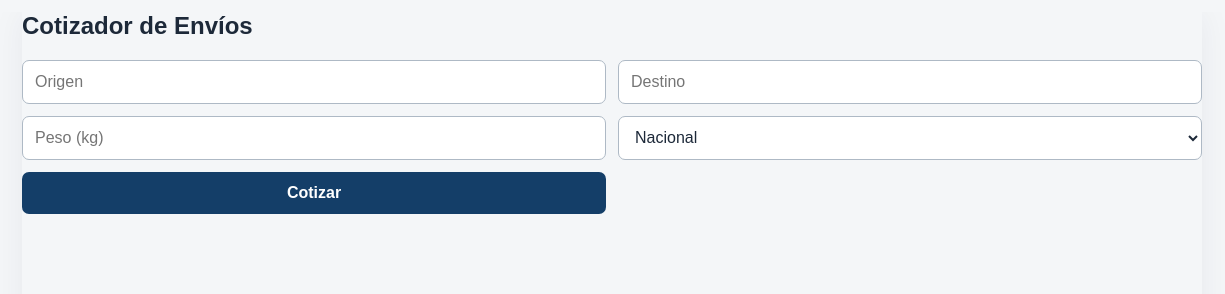
Test: QuoteForm › muestra una cotización según el servicio seleccionado
Type "Puebla" into the field named "Origen del envío". click: {"x": 314, "y": 82}
box: [22,60,606,104]
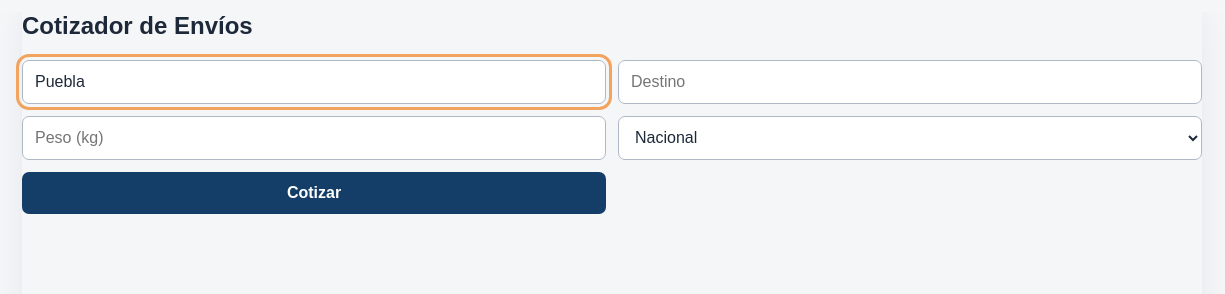
Type "CDMX" into the field named "Destino del envío". click: {"x": 910, "y": 82}
box: [618,60,1202,104]
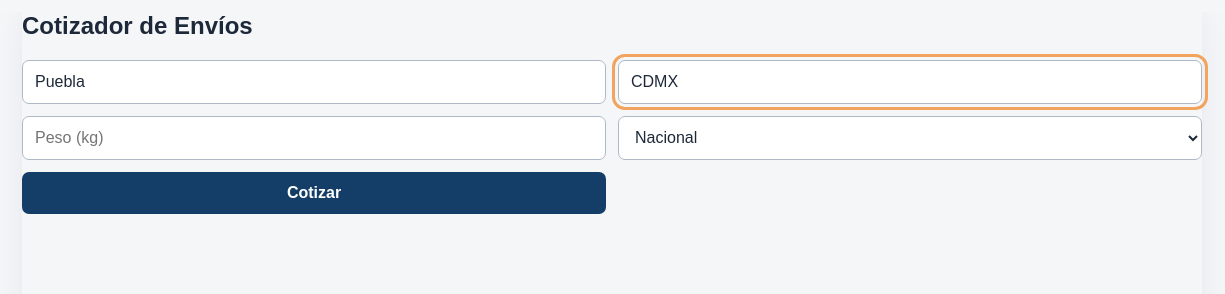
Type "2" into the number field named "Peso del paquete". click: {"x": 314, "y": 138}
box: [22,116,606,160]
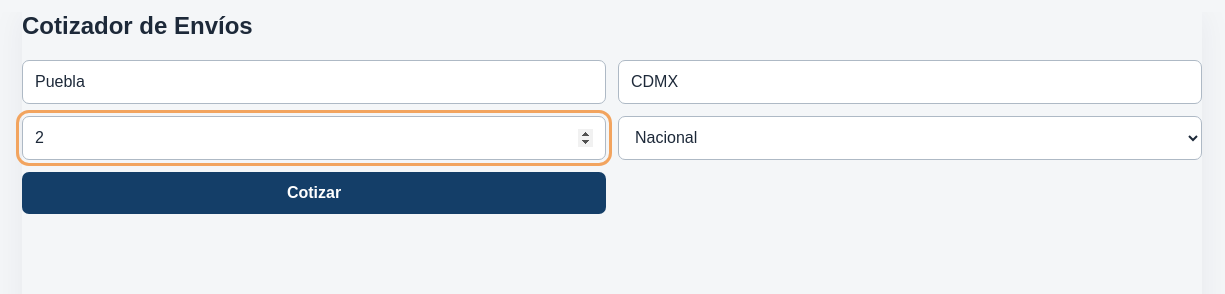
Select "Express" in the dropdown named "Tipo de envío". click: {"x": 910, "y": 138}
box: [618,116,1202,160]
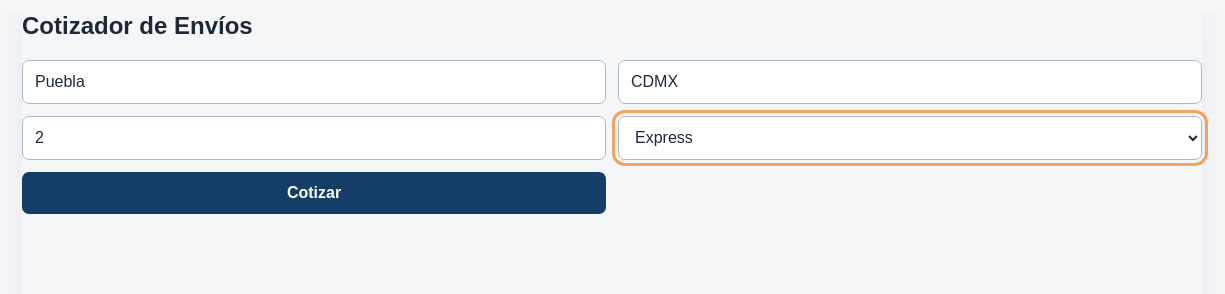
Click the button "Cotizar". click: {"x": 314, "y": 193}
box: [22,172,606,214]
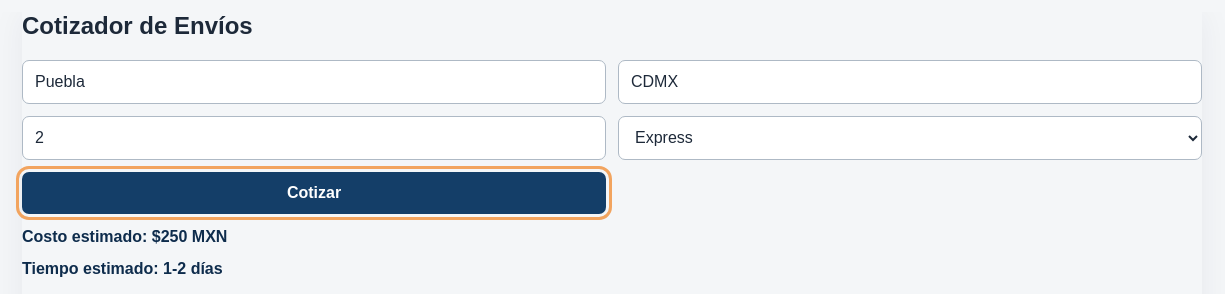
expect the text "Costo estimado: $250 MXN" is shown: met, box [22,228,227,245]
expect the text "Tiempo estimado: 1-2 días" is shown: met, box [22,260,223,277]
